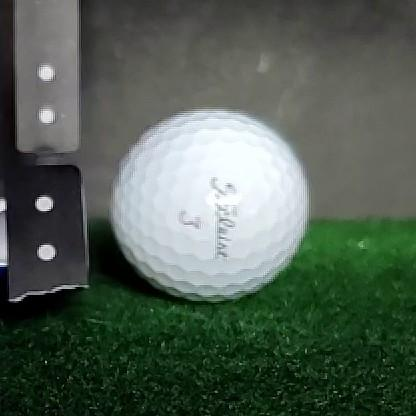golfball: (110, 108, 309, 304)
